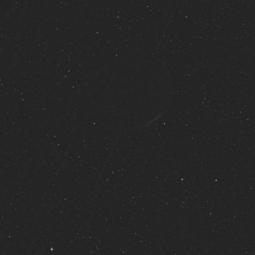double_start: (78, 41, 185, 138)
